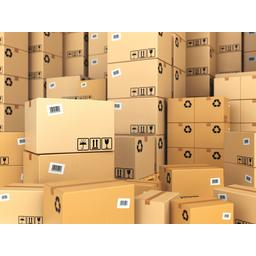cardboard: (21, 91, 115, 154), (38, 179, 138, 232), (101, 28, 190, 65), (152, 157, 228, 197)
